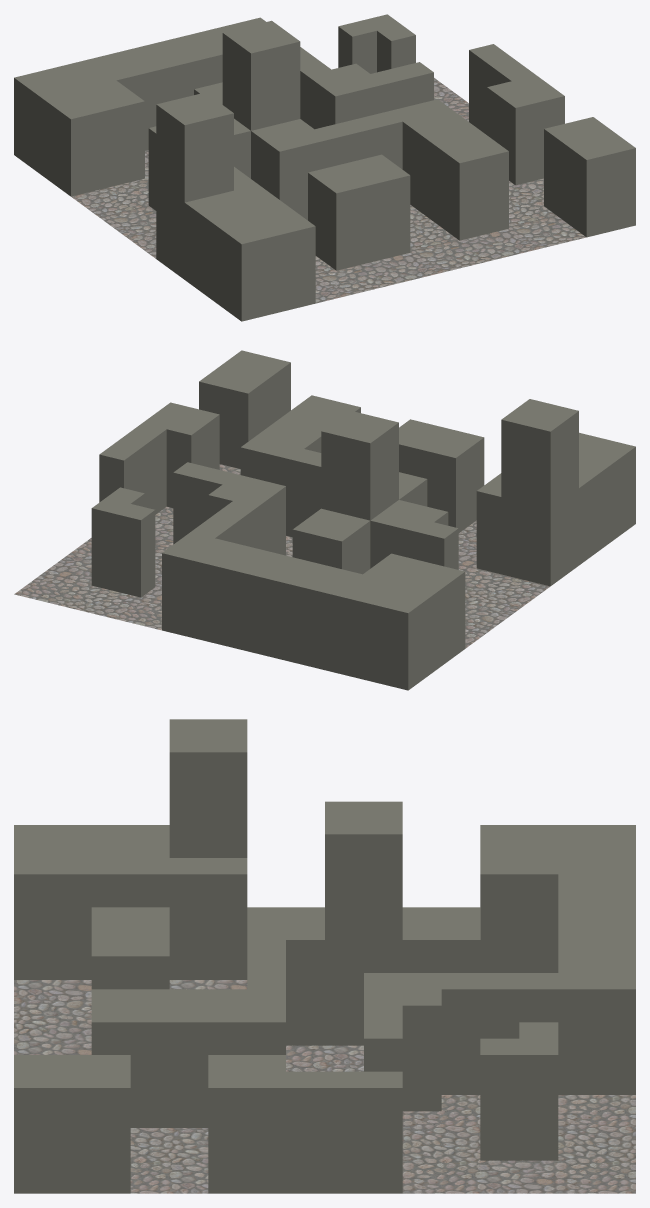
The model's file is tlie1.fbx.
3 renders of one model, top to bottom at view 1: azimuth 30°, elevation 25°; view 2: azimuth 150°, elevation 25°; view 3: azimuth 270°, elevation 25°, orthographic. The views are drawn at different scales.
Parts seen in each view (by area): view 1: Tile1; view 2: Tile1; view 3: Tile1.
Part boxes in pixels (x1,y1,x2,y2): Tile1: (14, 14, 635, 321); Tile1: (14, 350, 635, 690); Tile1: (14, 719, 635, 1193).
Bounding box in the file's own units: 1600 × 600 × 1600.
